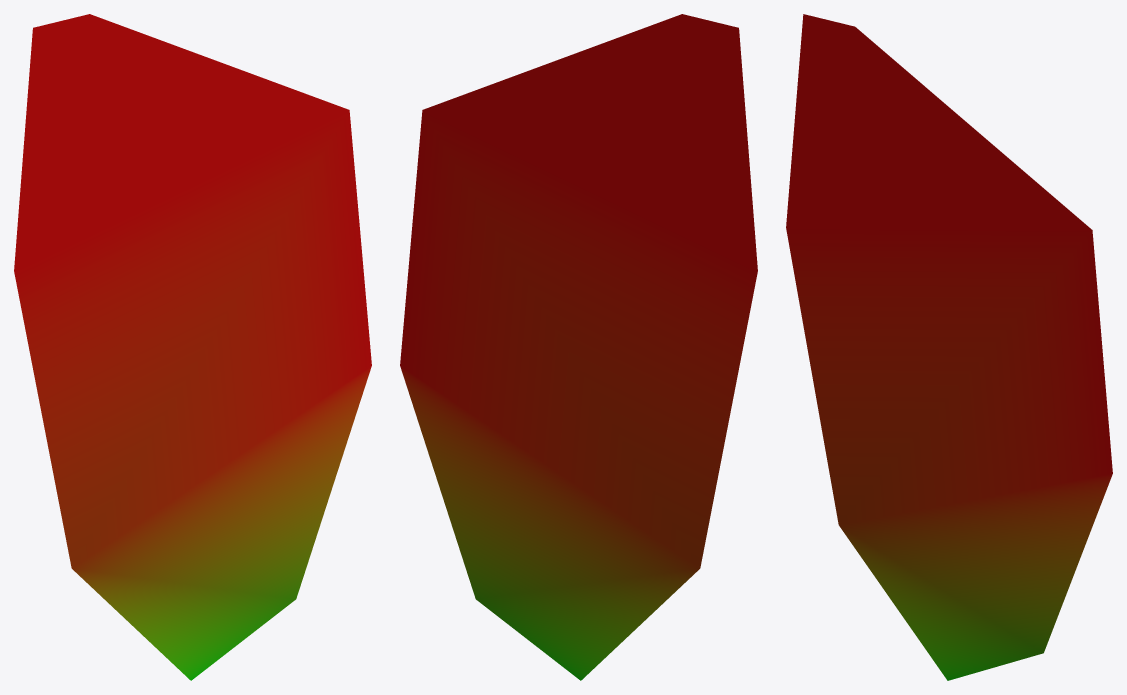
Rendered from Var1_LOD3.fbx.
3 views of the same model, side by side, from view 1: azimuth 30°, elevation 25°; view 2: azimuth 150°, elevation 25°; view 3: azimuth 330°, elevation 25° (orthographic). The views are drawn at different scales.
Parts seen in each view (by area): view 1: _1af2_Var1_LOD3; view 2: _1af2_Var1_LOD3; view 3: _1af2_Var1_LOD3.
Part boxes in pixels (x1,y1,x2,y2): _1af2_Var1_LOD3: (14, 14, 371, 680); _1af2_Var1_LOD3: (400, 14, 757, 680); _1af2_Var1_LOD3: (786, 14, 1112, 680).
Bounding box in the file's own units: 27.47 × 50.73 × 1.91e-06.
